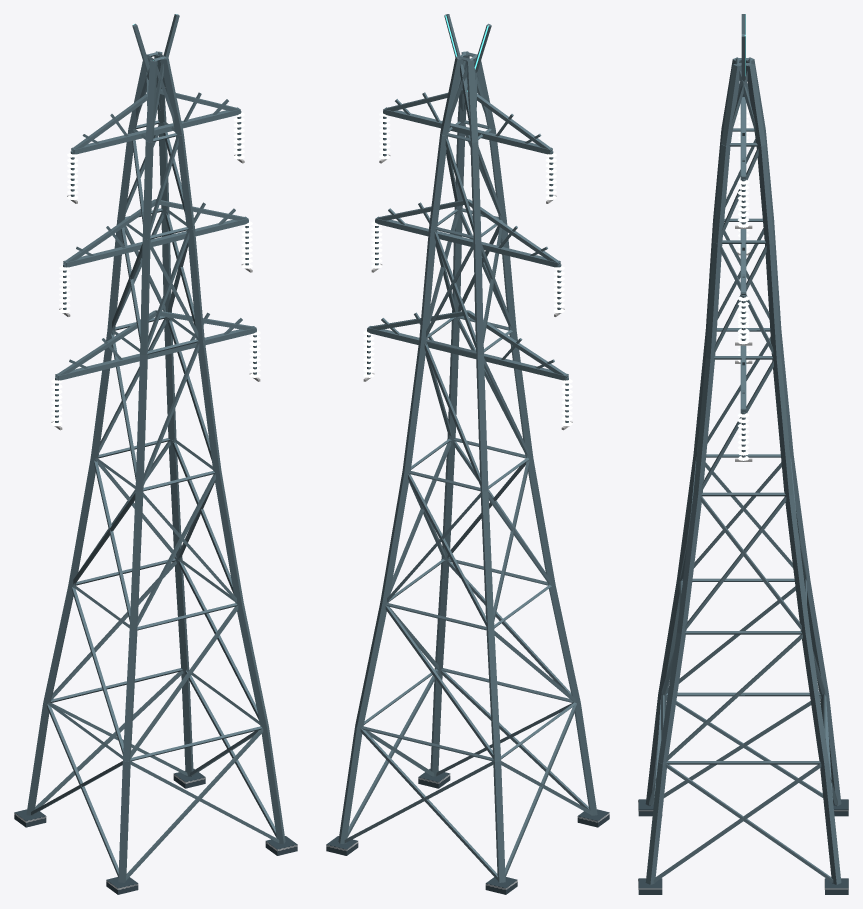
The model's file is transmission_line_segment.lod1.glb.
3 renders of one model, left to right at view 1: azimuth 30°, elevation 25°; view 2: azimuth 150°, elevation 25°; view 3: azimuth 270°, elevation 25°, orthographic.
Parts seen in each view (by area): view 1: transmission_line_segment_graphite_light.001, transmission_line_segment_white.001, transmission_line_segment_graphite.001; view 2: transmission_line_segment_graphite_light.001, transmission_line_segment_white.001, transmission_line_segment_graphite.001; view 3: transmission_line_segment_graphite_light.001, transmission_line_segment_white.001, transmission_line_segment_graphite.001.
Part boxes in pixels (x1=…): transmission_line_segment_graphite_light.001: x1=26, y1=14, x2=285, y2=882; transmission_line_segment_white.001: x1=51, y1=112, x2=260, y2=426; transmission_line_segment_graphite.001: x1=14, y1=768, x2=297, y2=894; transmission_line_segment_graphite_light.001: x1=338, y1=14, x2=597, y2=882; transmission_line_segment_white.001: x1=363, y1=112, x2=572, y2=426; transmission_line_segment_graphite.001: x1=326, y1=768, x2=609, y2=894; transmission_line_segment_graphite_light.001: x1=645, y1=14, x2=841, y2=884; transmission_line_segment_white.001: x1=737, y1=103, x2=749, y2=460; transmission_line_segment_graphite.001: x1=638, y1=799, x2=848, y2=894.
Size of the model in its own units: 11.78 by 44.03 by 10.18.
